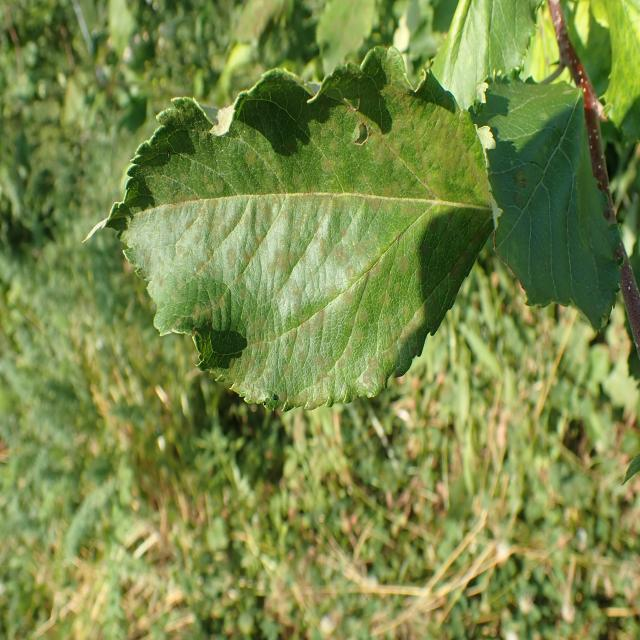scab: (143, 101, 486, 348), (492, 98, 597, 247)
